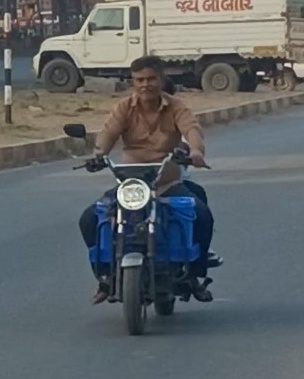BikeWithRider: (57, 51, 228, 338)
NoHelmet: (123, 52, 171, 104)
